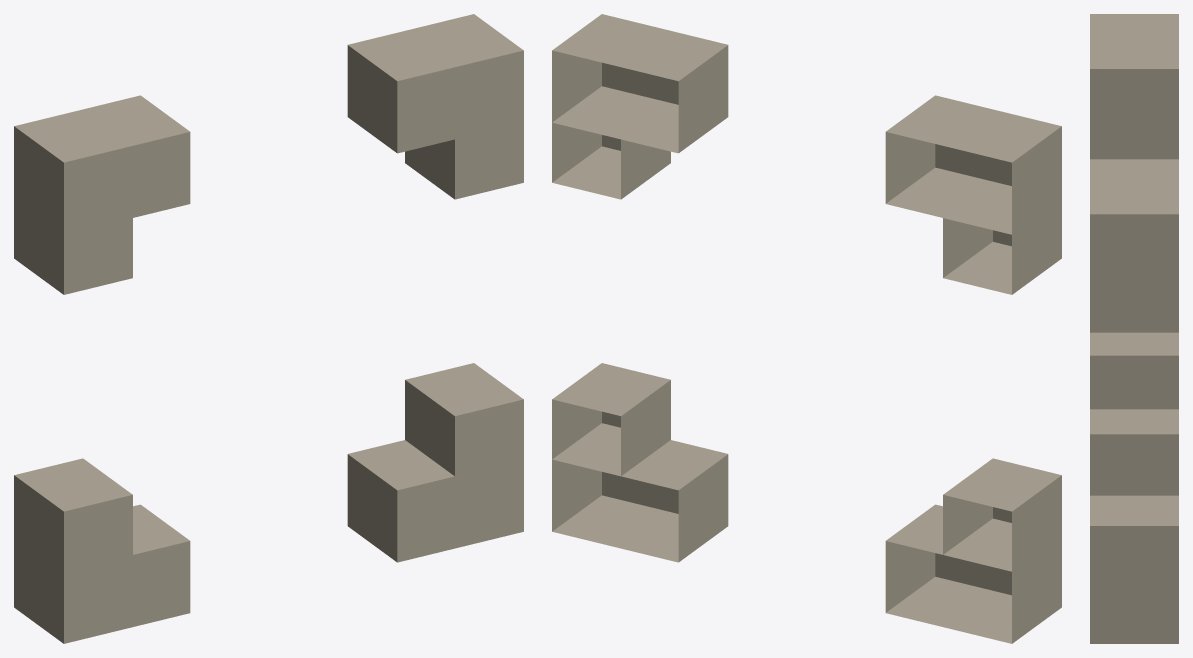
The model's file is construction_0.glb.
3 views of the same model, side by side, from view 1: azimuth 30°, elevation 25°; view 2: azimuth 150°, elevation 25°; view 3: azimuth 270°, elevation 25° (orthographic). The views are drawn at different scales.
Parts seen in each view (by area): view 1: c0; view 2: c0; view 3: c0.
Boxes of the visible parts, x1,y1,x2,y2 form: c0: (14,14,523,643); c0: (552,14,1061,643); c0: (1090,14,1178,643).
Bounding box in the file's own units: 4 × 4 × 0.75.
